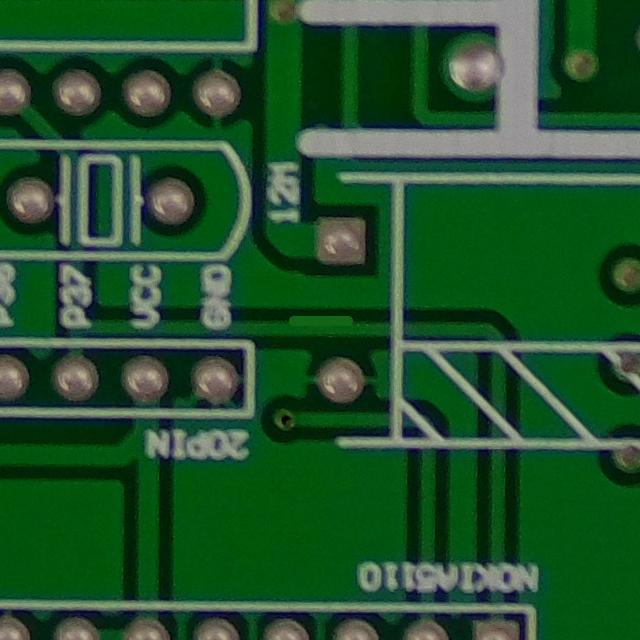spur: (273, 294, 367, 346)
